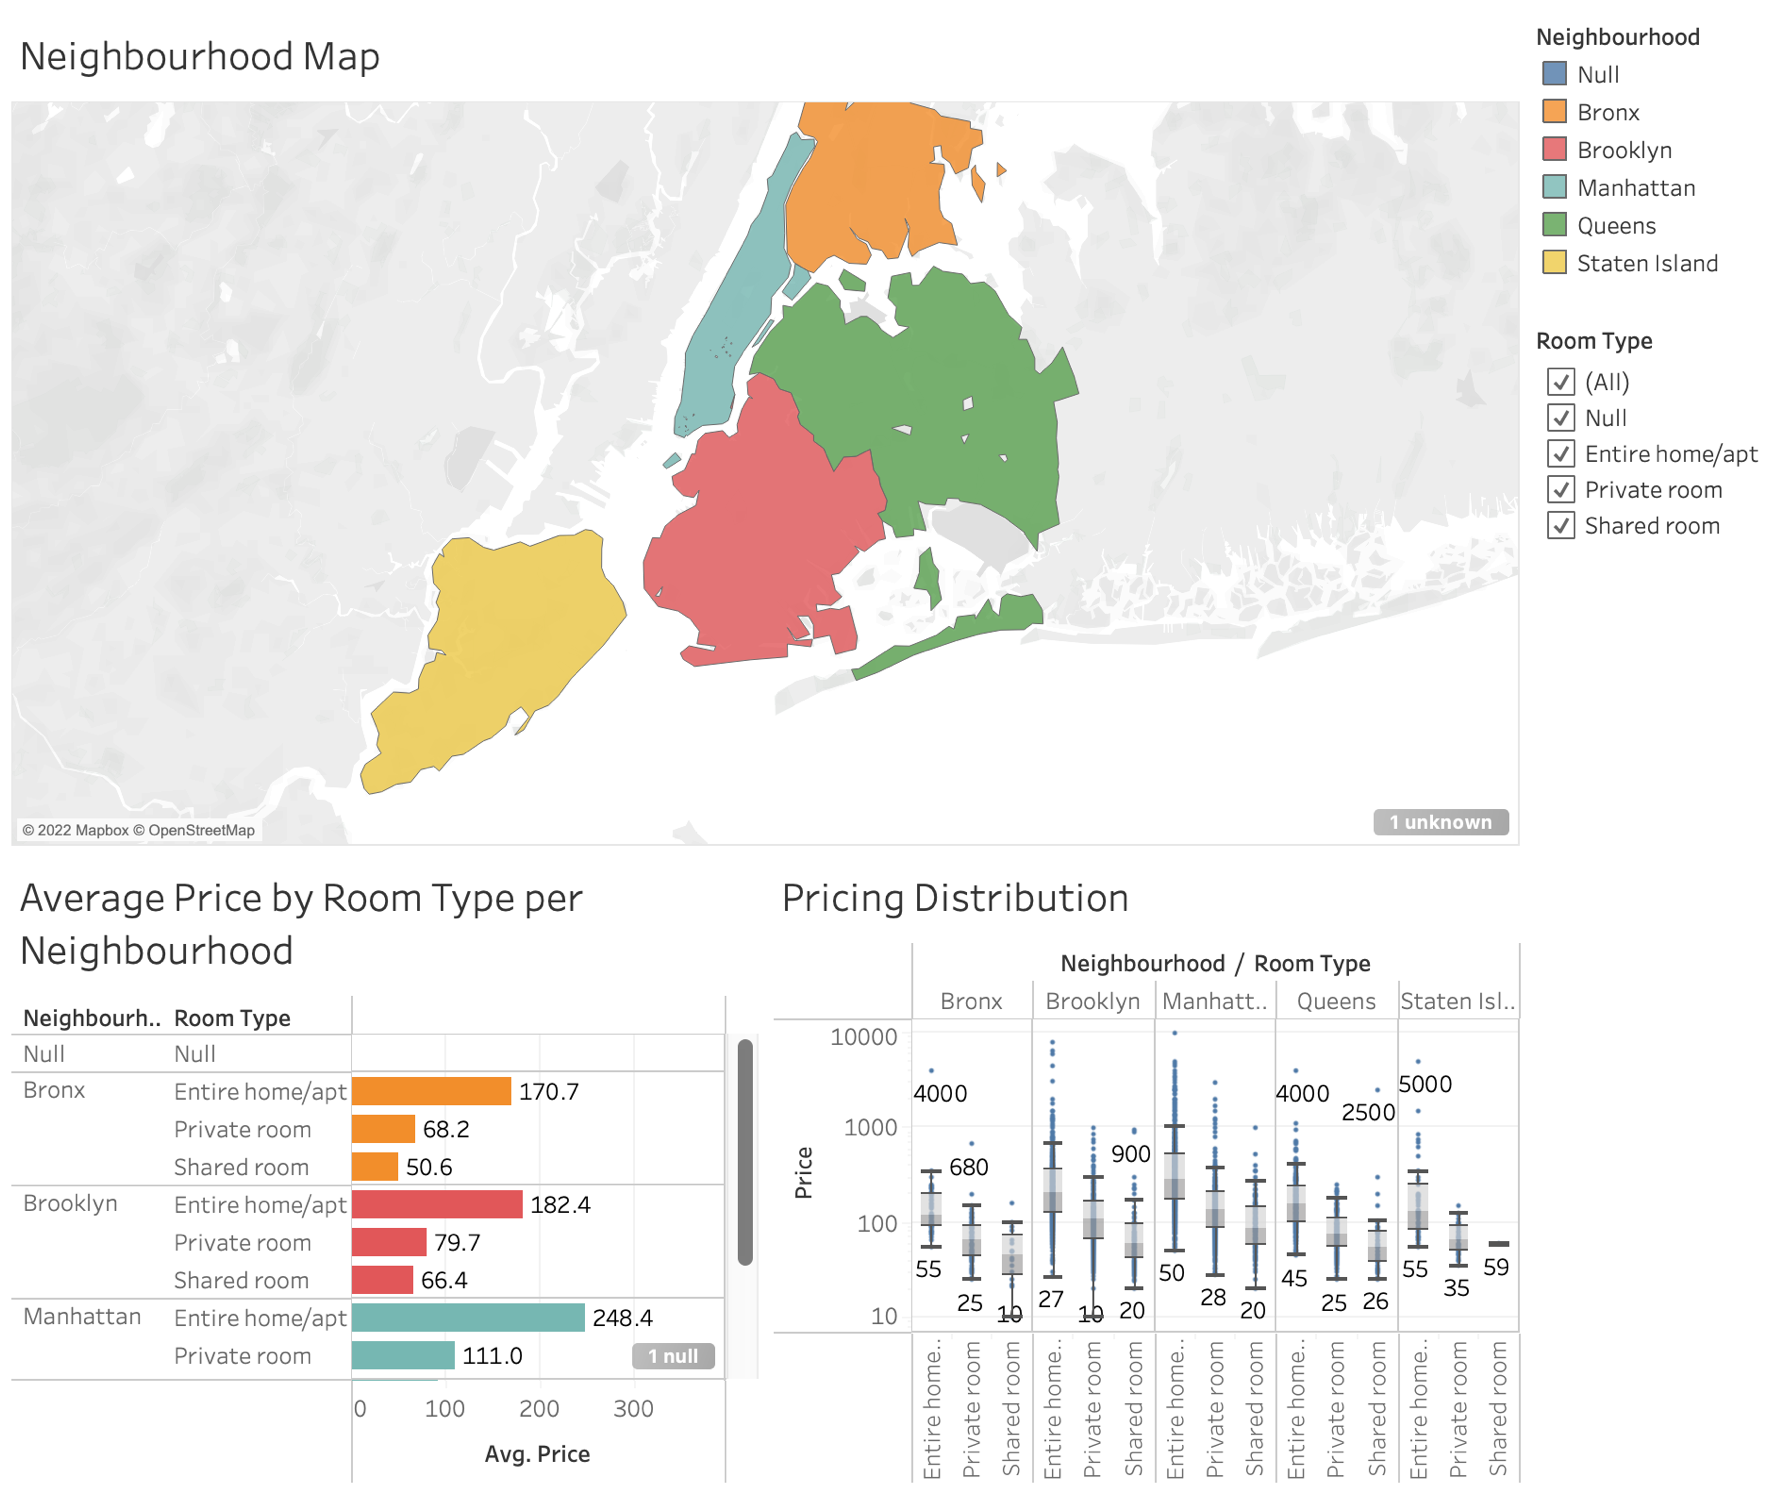

This screenshot's page, from the dashboard's own definition file:
{"tool":"tableau","page":{"name":"Question 1 Dashboard","canvas":[1000,1000],"units":"permille","ordinal":1},"visuals":[{"type":"worksheet","title":"Neighbourhood Map","mark":"Multipolygon","box":[8,10,808,557.5]},{"type":"legend","title":"Neighbourhood Map","param":"[federated.0fi0hti0gflwg81bsmdna14rxrs9].[none:Neighbourhood:nk]","box":[816,10,176,201.2]},{"type":"filter","title":"Pricing Outlier","param":"[federated.0fi0hti0gflwg81bsmdna14rxrs9].[none:Room Type:nk]","box":[816,211.2,176,158.8]},{"type":"worksheet","title":"Avg Price by Room Type per Hood","mark":"Automatic","rows":["Neighbourhood","Room Type"],"cols":["Price"],"box":[8,567.5,404,422.5]},{"type":"worksheet","title":"Pricing Outlier","mark":"Circle","rows":["Price"],"cols":["Neighbourhood","Room Type"],"box":[412,567.5,404,422.5]}]}

Visuals, with their boxes on the dashboard's canvas, which has no fixed pixel size, in thousandths of its width and height (x1, y1, x2, y2). These are canvas units, not pixel positions in the 1776x1500 screenshot, which may show the page scaled, cropped or inside an application window:
"Neighbourhood Map" worksheet (Multipolygon marks): (left=8, top=10, right=816, bottom=568)
"Neighbourhood Map" legend: (left=816, top=10, right=992, bottom=211)
"Pricing Outlier" filter: (left=816, top=211, right=992, bottom=370)
"Avg Price by Room Type per Hood" worksheet: (left=8, top=568, right=412, bottom=990)
"Pricing Outlier" worksheet (Circle marks): (left=412, top=568, right=816, bottom=990)
